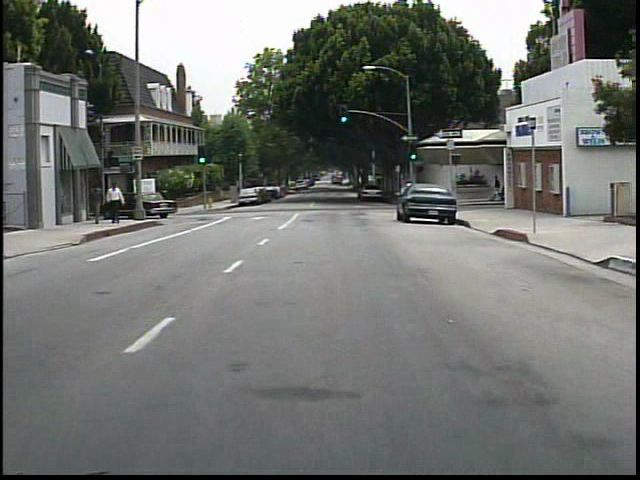person: (109, 181, 130, 225), (90, 182, 109, 227), (489, 170, 505, 205)
